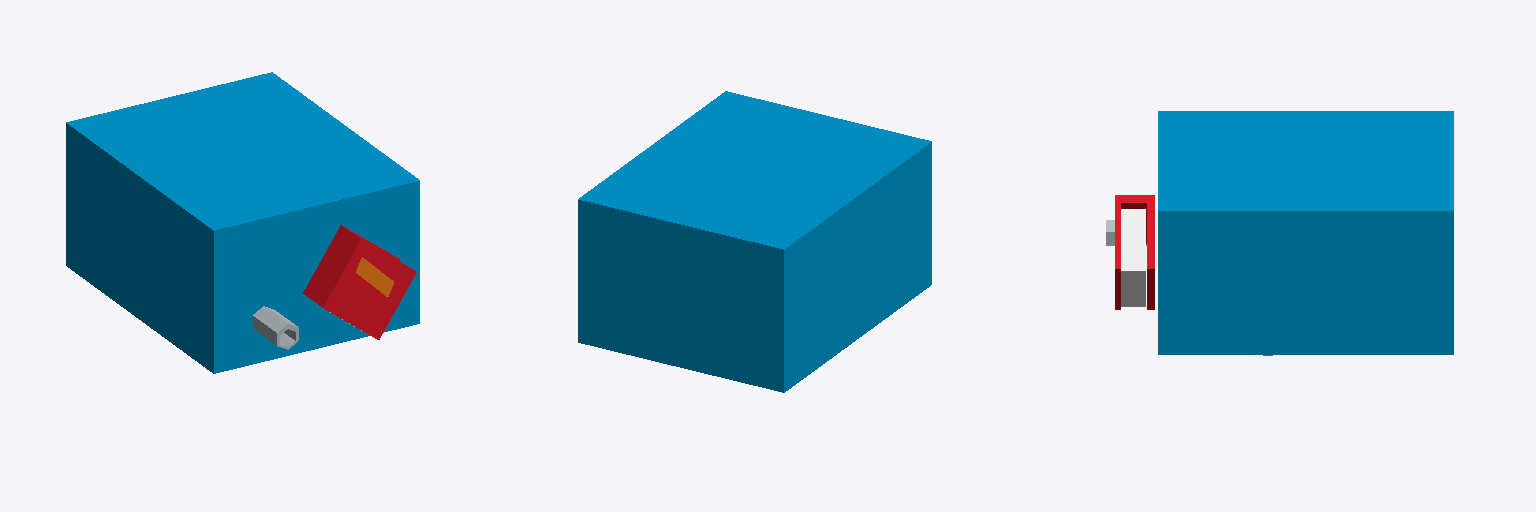
Rendered from tinker.obj.
3 views of the same model, side by side, from view 1: azimuth 30°, elevation 25°; view 2: azimuth 150°, elevation 25°; view 3: azimuth 270°, elevation 25° (orthographic).
Parts seen in each view (by area): view 1: obj_0; view 2: obj_0; view 3: obj_0.
Part boxes in pixels (bbox=[...]): obj_0: bbox=[66, 72, 419, 373]; obj_0: bbox=[578, 91, 931, 392]; obj_0: bbox=[1106, 111, 1453, 355].
Bounding box in the file's own units: 83 × 73 × 121.